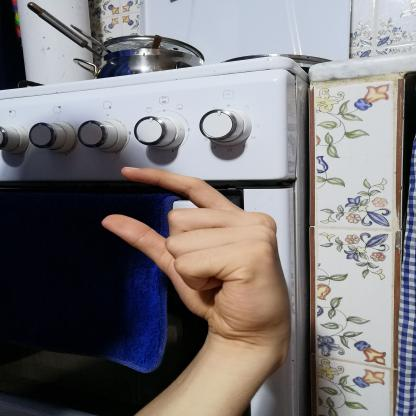DELL: (89, 160, 309, 348)
